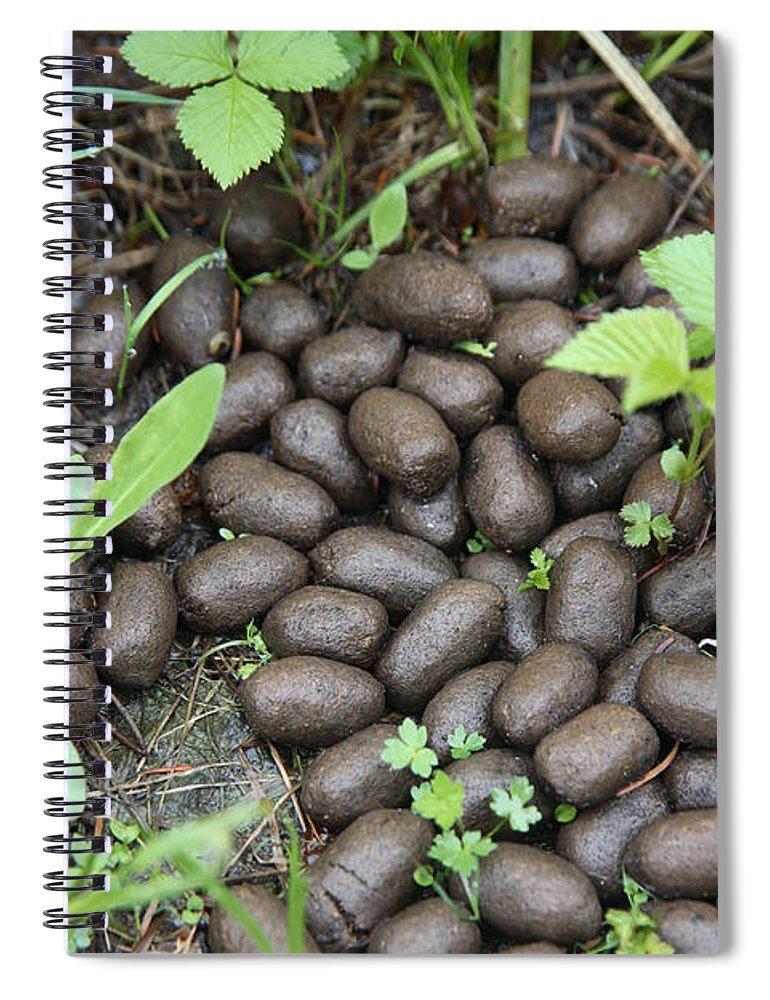Elk: (177, 226, 697, 904)
